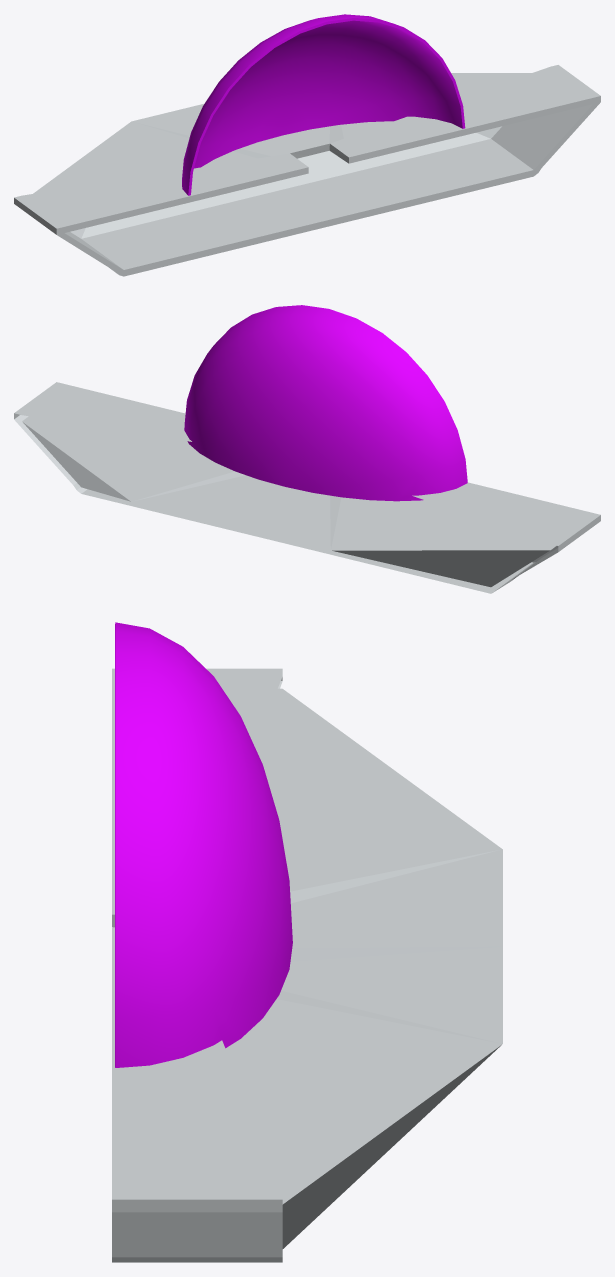
Rendered from ship inside.fbx.
3 renders of one model, top to bottom at view 1: azimuth 30°, elevation 25°; view 2: azimuth 150°, elevation 25°; view 3: azimuth 270°, elevation 25°, orthographic. The views are drawn at different scales.
Visible parts, largest first — view 1: Plane001; view 2: Plane001; view 3: Plane001.
Boxes of the visible parts, x1,y1,x2,y2 form: Plane001: (14,14,600,276); Plane001: (14,305,600,593); Plane001: (112,622,502,1262).
Bounding box in the file's own units: 974 × 350 × 303.
